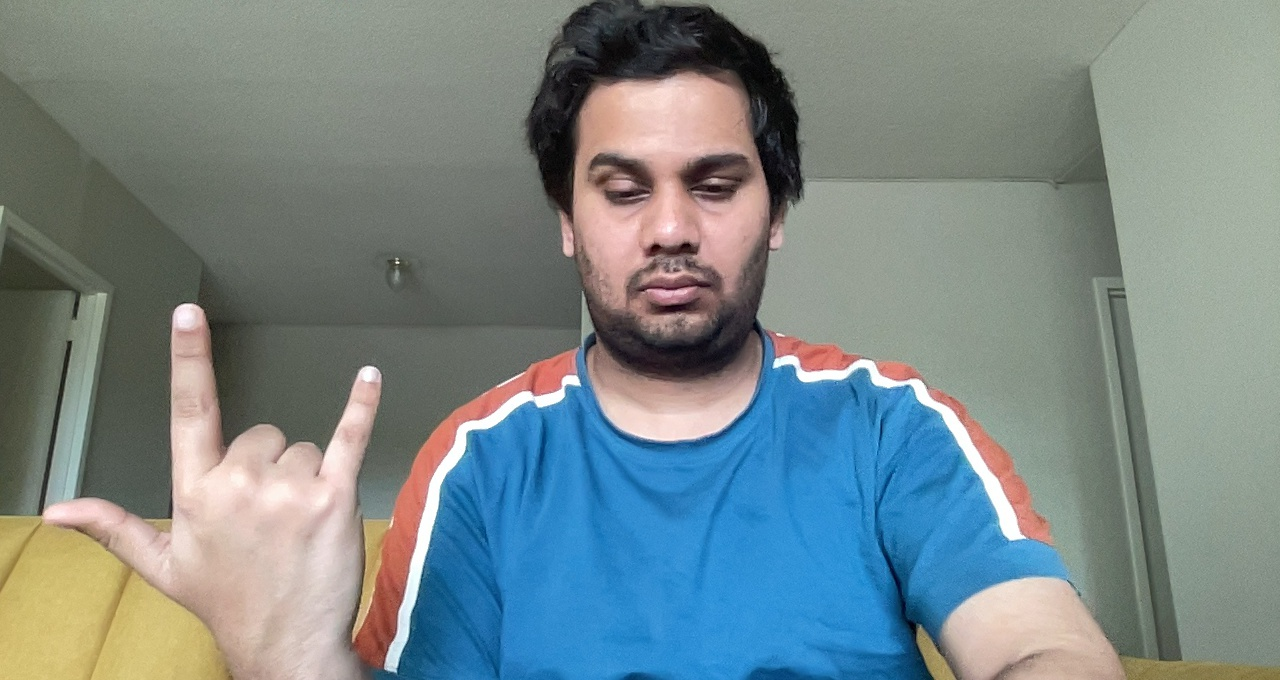rockon sign: (35, 290, 386, 630)
